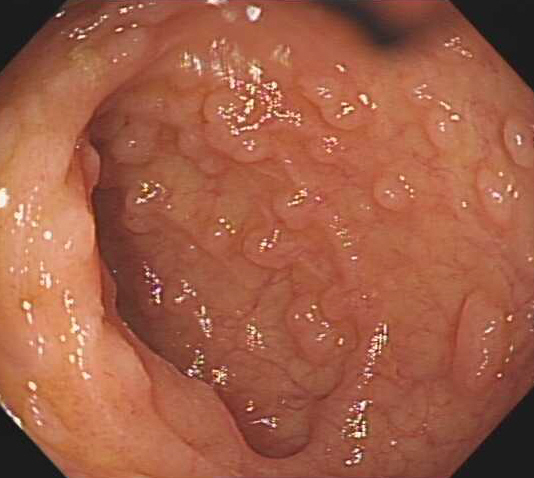others: (198, 86, 280, 164), (453, 287, 503, 386), (97, 323, 153, 405), (296, 75, 370, 132), (281, 291, 331, 368), (469, 162, 517, 225), (235, 224, 296, 271), (110, 116, 164, 165), (120, 181, 169, 235), (270, 187, 322, 231), (423, 106, 469, 155), (99, 23, 150, 65), (499, 110, 534, 169), (63, 201, 95, 262), (369, 173, 416, 211), (74, 139, 102, 191)
